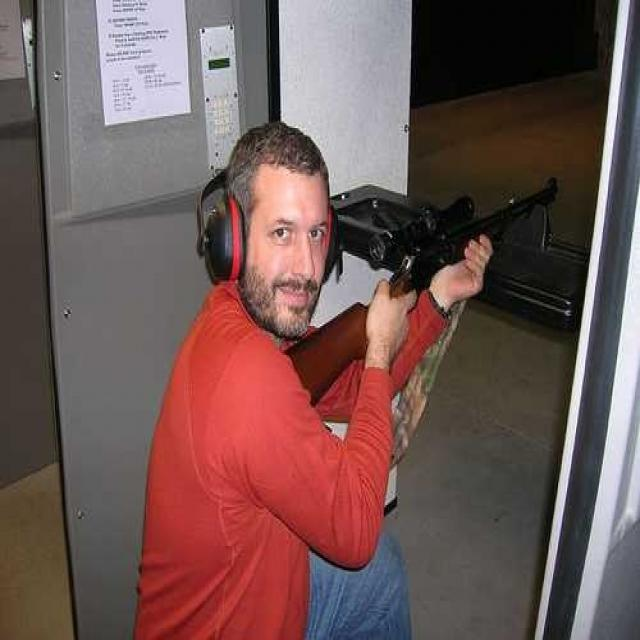weapon: (290, 158, 571, 412)
